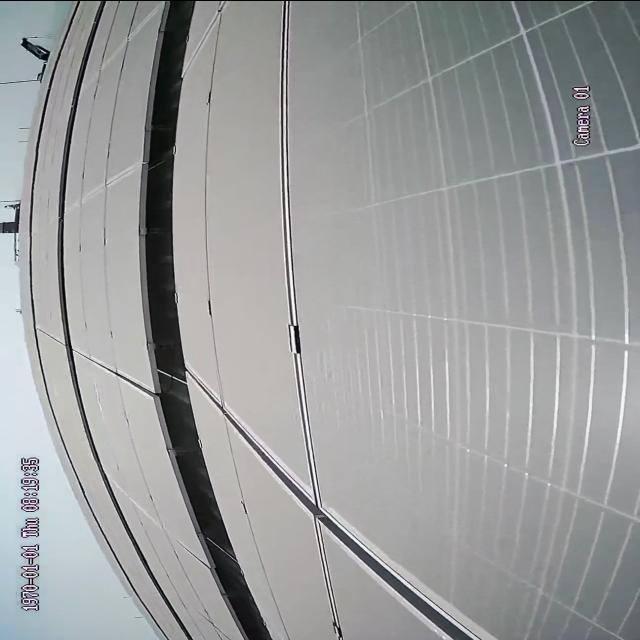interior panel: (197, 378, 505, 640), (269, 5, 318, 472), (71, 158, 137, 210), (81, 352, 142, 391)
outher panel: (141, 4, 277, 637)
